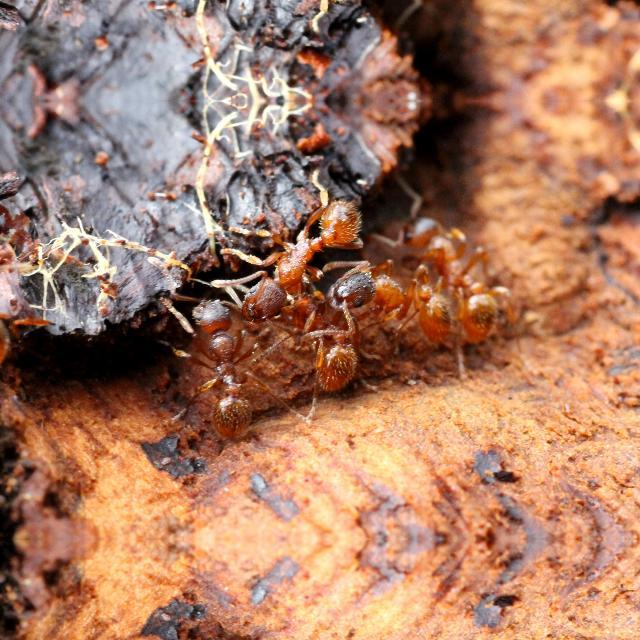Myrmica: (204, 186, 383, 328), (160, 290, 288, 444), (386, 202, 516, 348), (317, 244, 465, 350), (277, 272, 385, 401)
